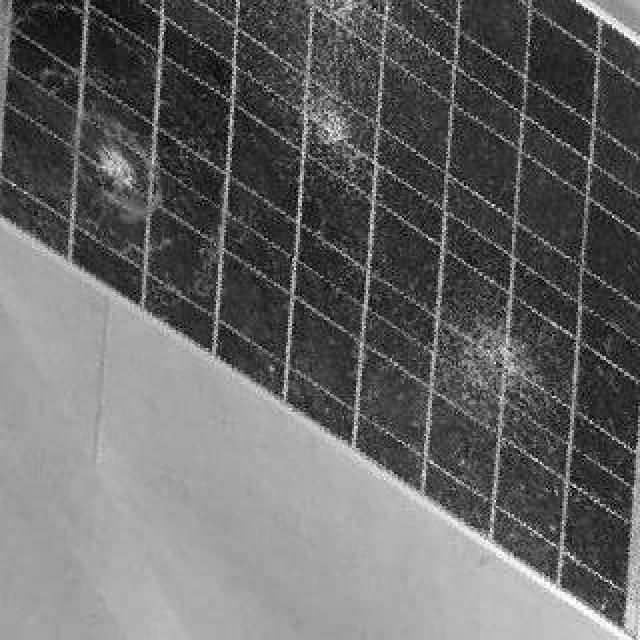Physical-damage: (282, 0, 411, 183), (58, 92, 203, 243), (439, 283, 561, 447)
